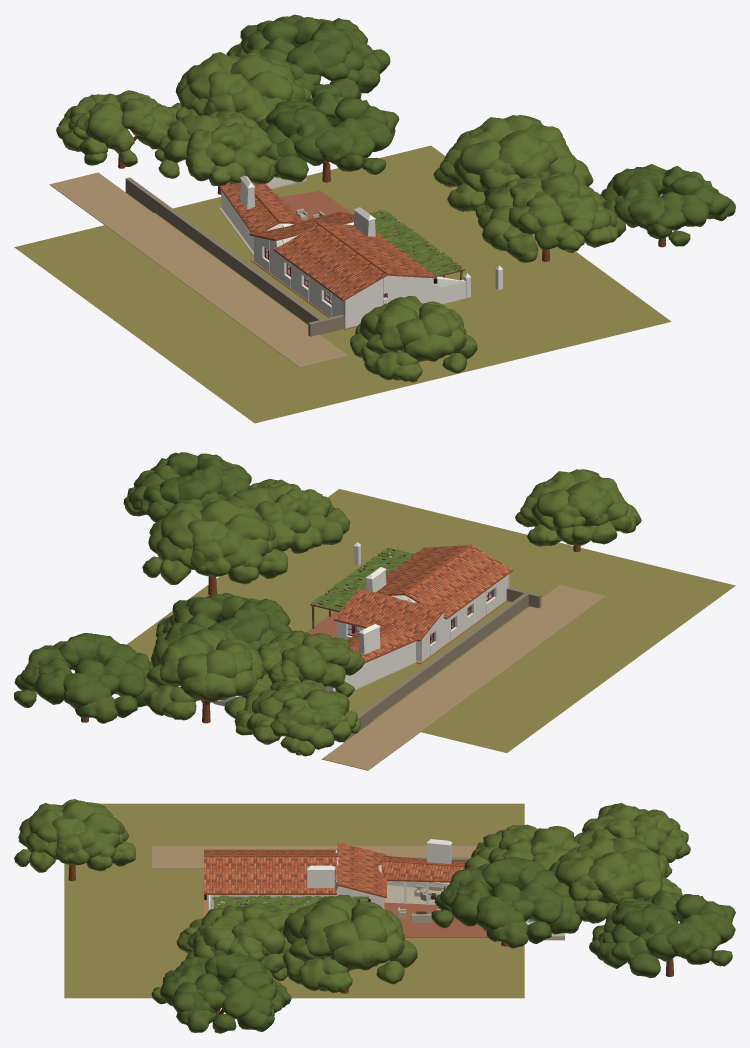
Rendered from villa1.glb.
The picture shows the model from 3 angles, top to bottom: view 1: azimuth 30°, elevation 25°; view 2: azimuth 150°, elevation 25°; view 3: azimuth 270°, elevation 25°; orthographic projection. The views are drawn at different scales.
Visible parts, largest first — view 1: ground_patch, road, roof, tree6_cork_crown3, tree1_cork_crown4, tree5_cork_crown5, tree7_cork_crown4, tree8_cork_crown5, tree3_cork_crown4, tree0_cork_crown3, tree2_cork_crown5, tree4_cork_crown3 (+5 smaller); view 2: ground_patch, road, roof, tree5_cork_crown5, tree7_cork_crown4, tree2_cork_crown5, tree8_cork_crown5, tree4_cork_crown3, tree3_cork_crown4, tree6_cork_crown3, tree1_cork_crown4, tree0_cork_crown3 (+4 smaller); view 3: ground_patch, tree5_cork_crown5, tree1_cork_crown4, roof, tree7_cork_crown4, tree3_cork_crown4, tree2_cork_crown5, tree8_cork_crown5, tree6_cork_crown3, tree4_cork_crown3, tree0_cork_crown3, road (+7 smaller).
Part boxes in pixels (x1,y1,x2,y2): ground_patch: (14, 145, 671, 423); road: (49, 172, 348, 367); roof: (218, 182, 437, 301); tree6_cork_crown3: (475, 173, 617, 262); tree1_cork_crown4: (258, 91, 399, 182); tree5_cork_crown5: (433, 115, 593, 211); tree7_cork_crown4: (226, 14, 390, 98); tree8_cork_crown5: (350, 296, 477, 381); tree3_cork_crown4: (600, 164, 735, 246); tree0_cork_crown3: (155, 110, 279, 186); tree2_cork_crown5: (171, 52, 311, 123); tree4_cork_crown3: (56, 90, 178, 166); ground_patch: (127, 489, 735, 752); road: (321, 585, 605, 770); roof: (334, 545, 512, 663); tree5_cork_crown5: (142, 497, 287, 584); tree7_cork_crown4: (14, 633, 152, 723); tree2_cork_crown5: (144, 629, 271, 720); tree8_cork_crown5: (515, 469, 641, 546); tree4_cork_crown3: (234, 679, 360, 756); tree3_cork_crown4: (123, 452, 251, 522); tree6_cork_crown3: (226, 479, 350, 553); tree1_cork_crown4: (155, 592, 304, 649); tree0_cork_crown3: (256, 631, 364, 697); ground_patch: (64, 803, 524, 998); tree5_cork_crown5: (282, 894, 417, 992); tree1_cork_crown4: (431, 856, 581, 948); roof: (204, 842, 465, 898); tree7_cork_crown4: (589, 890, 735, 978); tree3_cork_crown4: (151, 954, 291, 1033); tree2_cork_crown5: (549, 836, 682, 923); tree8_cork_crown5: (14, 799, 135, 872); tree6_cork_crown3: (176, 903, 289, 981); tree4_cork_crown3: (574, 803, 690, 877); tree0_cork_crown3: (464, 824, 582, 895); road: (152, 845, 476, 868).
Size of the model in its own units: 57.9 by 9.42 by 69.05.
Materials: 29 (1 with a texture image).
